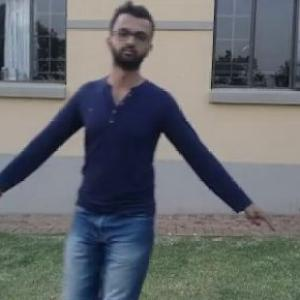land: (10, 44, 221, 299)
